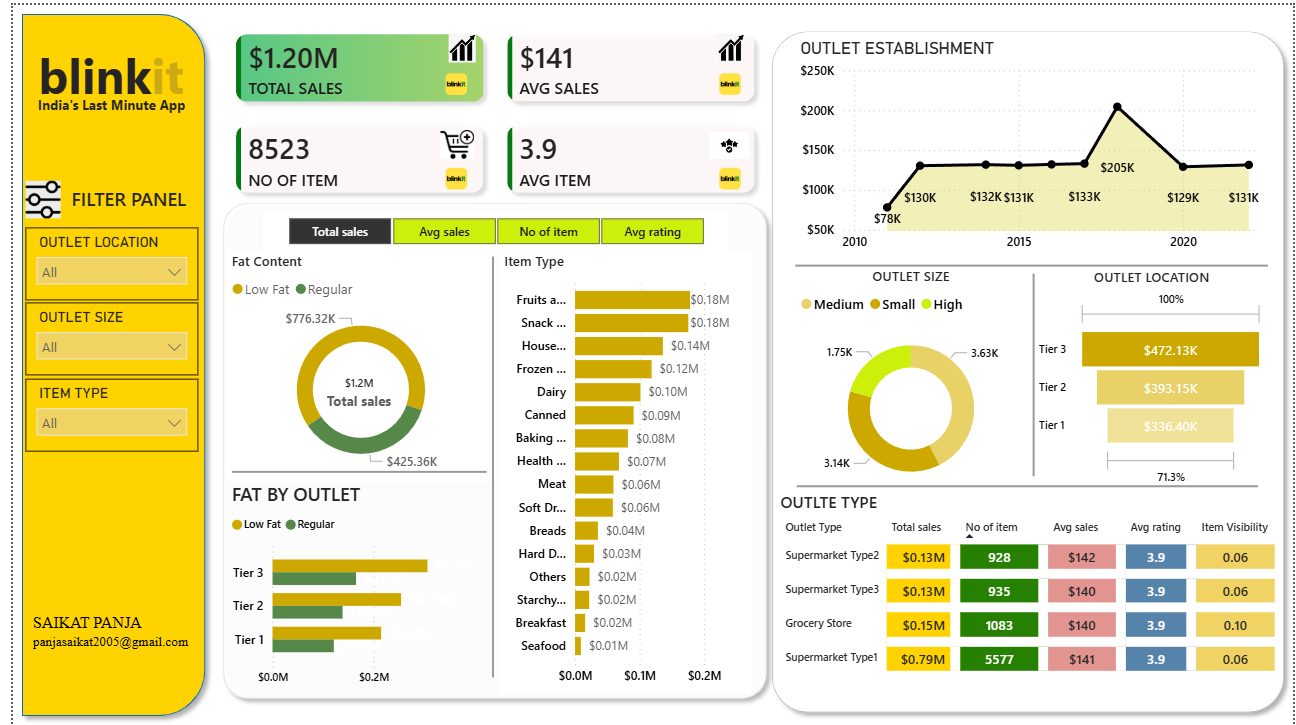

This screenshot's page, from the dashboard's own definition file:
{"tool":"powerbi","page":{"name":"Page 1","canvas":[1280,720],"ordinal":0},"visuals":[{"type":"shape","box":[0,0,201.2,720],"z":0},{"type":"textbox","box":[11.2,32.5,173.8,77.5],"z":4000},{"type":"textbox","box":[12.5,86.2,172.5,47.5],"z":5000},{"type":"group","id":"g1","title":"Group 1","box":[206.2,12.5,552.5,193.8],"z":6000},{"type":"cardVisual","fields":{"Data":["BlinkIT Grocery Data.total sales","BlinkIT Grocery Data.avg sales","BlinkIT Grocery Data.No of item","BlinkIT Grocery Data.avg rating"]},"box":[206.2,12.5,552.5,193.8],"z":7000,"group":"g1"},{"type":"shape","box":[750,17.5,530,698.8],"z":7000},{"type":"stackedAreaChart","title":" OUTLET ESTABLISHMENT","fields":{"Category":["BlinkIT Grocery Data.Outlet Establishment Year"],"Y":["BlinkIT Grocery Data.Total sales"]},"box":[782.5,32.5,472.5,222.5],"z":8000},{"type":"image","box":[432.9,67.6,21.8,23.3],"z":8000,"group":"g1"},{"type":"shape","box":[201.2,188.8,561.2,513.8],"z":8000,"group":"g2"},{"type":"image","box":[706.7,160.9,21.8,24.2],"z":9000,"group":"g1"},{"type":"slicer","fields":{"Values":["Metrics.Metrics"]},"box":[250,206.3,465,40],"z":9000,"group":"g2"},{"type":"shape","box":[782.5,247.5,472.5,26.2],"z":9000},{"type":"image","box":[706.7,67.6,21.8,23.3],"z":10000,"group":"g1"},{"type":"donutChart","title":" Fat Content","fields":{"Y":["BlinkIT Grocery Data.Total sales"],"Series":["BlinkIT Grocery Data.Item Fat Content"]},"box":[213.7,246.3,268.8,230],"z":10000,"group":"g2"},{"type":"shape","box":[783.8,463.8,461.2,35],"z":10000},{"type":"image","box":[432.9,160.9,21.8,24.2],"z":11000,"group":"g1"},{"type":"shape","box":[998.8,268.8,43.8,202.5],"z":11000},{"type":"cardVisual","fields":{"Data":["BlinkIT Grocery Data.Total sales"]},"box":[282.4,346.3,127.5,82.5],"z":11000,"group":"g2"},{"type":"image","box":[698.2,29.1,38.8,28.7],"z":12000,"group":"g1"},{"type":"donutChart","title":"OUTLET SIZE","fields":{"Y":["CountNonNull(BlinkIT Grocery Data.Outlet Size)"],"Category":["BlinkIT Grocery Data.Outlet Size"]},"box":[782.5,261.2,231.2,237.5],"z":12000},{"type":"clusteredBarChart","title":"FAT BY OUTLET","fields":{"Y":["BlinkIT Grocery Data.Total sales"],"Category":["BlinkIT Grocery Data.Outlet Location Type"],"Series":["BlinkIT Grocery Data.Item Fat Content"]},"box":[213.7,476.3,268.8,212.5],"z":12000,"group":"g2"},{"type":"image","box":[430.4,29.1,38.8,28.7],"z":13000,"group":"g1"},{"type":"funnel","title":" OUTLET LOCATION","fields":{"Category":["BlinkIT Grocery Data.Outlet Location Type"],"Y":["BlinkIT Grocery Data.Total sales"]},"box":[1021.2,262.5,235,222.5],"z":13000},{"type":"shape","box":[218.7,457.6,255,18.8],"z":13000,"group":"g2"},{"type":"image","box":[424.4,125,38.8,28.7],"z":14000,"group":"g1"},{"type":"shape","box":[473.7,251.3,12.5,421.2],"z":14000,"group":"g2"},{"type":"pivotTable","title":"OUTLTE TYPE","fields":{"Rows":["BlinkIT Grocery Data.Outlet Type"],"Values":["BlinkIT Grocery Data.Total sales","BlinkIT Grocery Data.No of item","BlinkIT Grocery Data.Avg sales","BlinkIT Grocery Data.Avg rating","Avg(BlinkIT Grocery Data.Item Visibility)"]},"box":[762.5,485,505,217.5],"z":14000},{"type":"image","box":[696.2,123.4,40,33.8],"z":15000,"group":"g1"},{"type":"group","id":"g2","title":"Group 2","box":[201.2,188.8,561.2,513.8],"z":15000},{"type":"clusteredBarChart","title":" Item Type","fields":{"Y":["BlinkIT Grocery Data.Total sales"],"Category":["BlinkIT Grocery Data.Item Type"]},"box":[486.2,246.3,252.5,442.5],"z":15000,"group":"g2"},{"type":"slicer","fields":{"Values":["BlinkIT Grocery Data.Outlet Location Type"]},"box":[12.5,222.5,172.5,72.5],"z":15001},{"type":"slicer","fields":{"Values":["BlinkIT Grocery Data.Outlet Size"]},"box":[12.5,297.5,172.5,72.5],"z":15002},{"type":"slicer","fields":{"Values":["BlinkIT Grocery Data.Item Type"]},"box":[12.5,373.8,172.5,72.5],"z":15003},{"type":"textbox","box":[47.8,176.7,136.7,36.7],"z":15004},{"type":"image","box":[12.2,174.4,35.6,38.9],"z":15005},{"type":"textbox","box":[14.4,603.3,170,52.2],"z":15006}]}

Visuals, with their boxes in screenshot pixels (x1, y1, x2, y2), scaled from the page's 1280x720 canvas onto the 1296x725 screenshot:
shape: region(0, 0, 204, 724)
textbox: region(11, 33, 187, 111)
textbox: region(13, 87, 187, 135)
"Group 1" group: region(209, 13, 768, 208)
cardVisual - BlinkIT Grocery Data.total sales x BlinkIT Grocery Data.avg sales: region(209, 13, 768, 208)
shape: region(759, 18, 1295, 721)
" OUTLET ESTABLISHMENT" stackedAreaChart: region(792, 33, 1271, 257)
image: region(438, 68, 460, 92)
shape: region(204, 190, 772, 707)
image: region(716, 162, 738, 186)
slicer - Metrics.Metrics: region(253, 208, 724, 248)
shape: region(792, 249, 1271, 276)
image: region(716, 68, 738, 92)
" Fat Content" donutChart: region(216, 248, 489, 480)
shape: region(794, 467, 1261, 502)
image: region(438, 162, 460, 186)
shape: region(1011, 271, 1056, 475)
cardVisual - BlinkIT Grocery Data.Total sales: region(286, 349, 415, 432)
image: region(707, 29, 746, 58)
"OUTLET SIZE" donutChart: region(792, 263, 1026, 502)
"FAT BY OUTLET" clusteredBarChart: region(216, 480, 489, 694)
image: region(436, 29, 475, 58)
" OUTLET LOCATION" funnel: region(1034, 264, 1272, 488)
shape: region(221, 461, 480, 480)
image: region(430, 126, 469, 155)
shape: region(480, 253, 492, 677)
"OUTLTE TYPE" pivotTable: region(772, 488, 1283, 707)
image: region(705, 124, 745, 158)
"Group 2" group: region(204, 190, 772, 707)
" Item Type" clusteredBarChart: region(492, 248, 748, 694)
slicer - BlinkIT Grocery Data.Outlet Location Type: region(13, 224, 187, 297)
slicer - BlinkIT Grocery Data.Outlet Size: region(13, 300, 187, 373)
slicer - BlinkIT Grocery Data.Item Type: region(13, 376, 187, 449)
textbox: region(48, 178, 187, 215)
image: region(12, 176, 48, 215)
textbox: region(15, 607, 187, 660)
